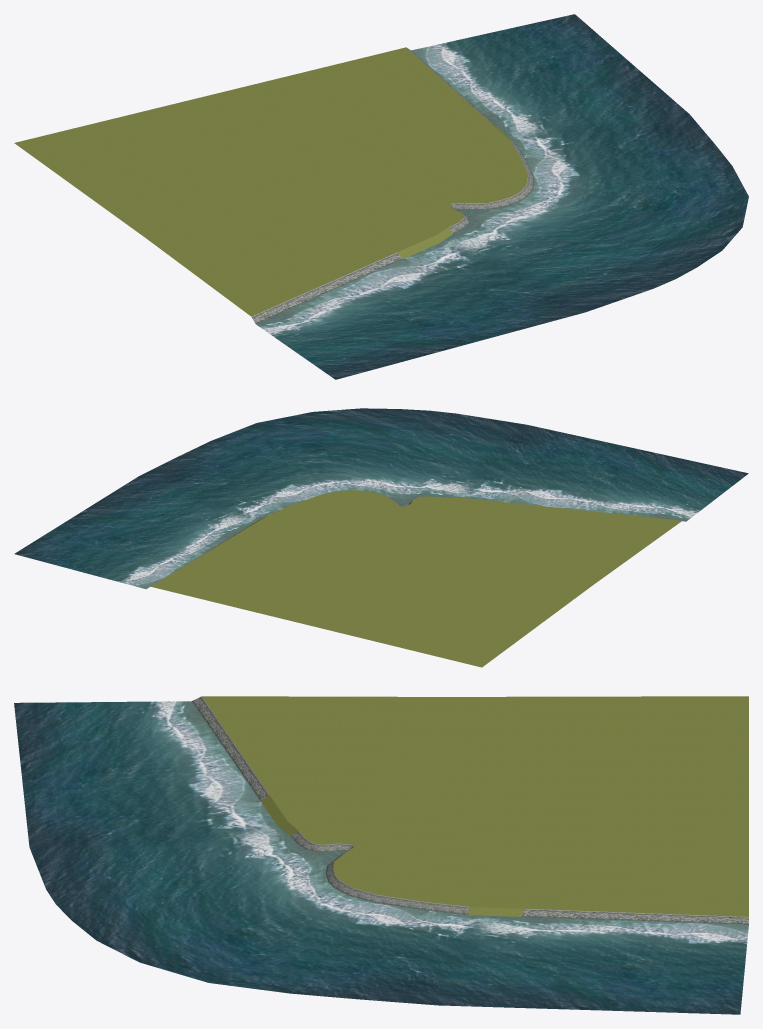
File: Monaco_track_field.dae
The picture shows the model from 3 angles, top to bottom: view 1: azimuth 30°, elevation 25°; view 2: azimuth 150°, elevation 25°; view 3: azimuth 270°, elevation 25°; orthographic projection. The views are drawn at different scales.
Parts seen in each view (by area): view 1: field; view 2: field; view 3: field.
Part boxes in pixels (left/top/right/bottom): field: left=14, top=14, right=748, bottom=379; field: left=14, top=408, right=748, bottom=667; field: left=14, top=696, right=748, bottom=1014.
Bounding box in the file's own units: 206 × 204 × 1.53.
3 materials, 3 textured.
